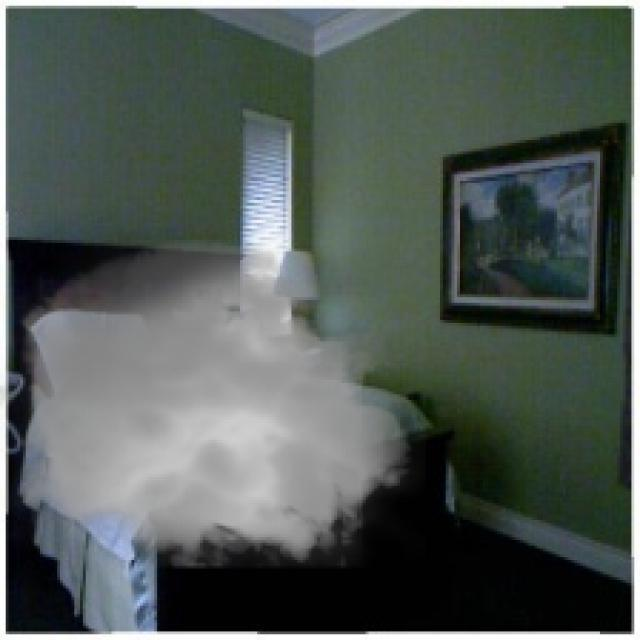Smoke: (0, 228, 426, 583)
